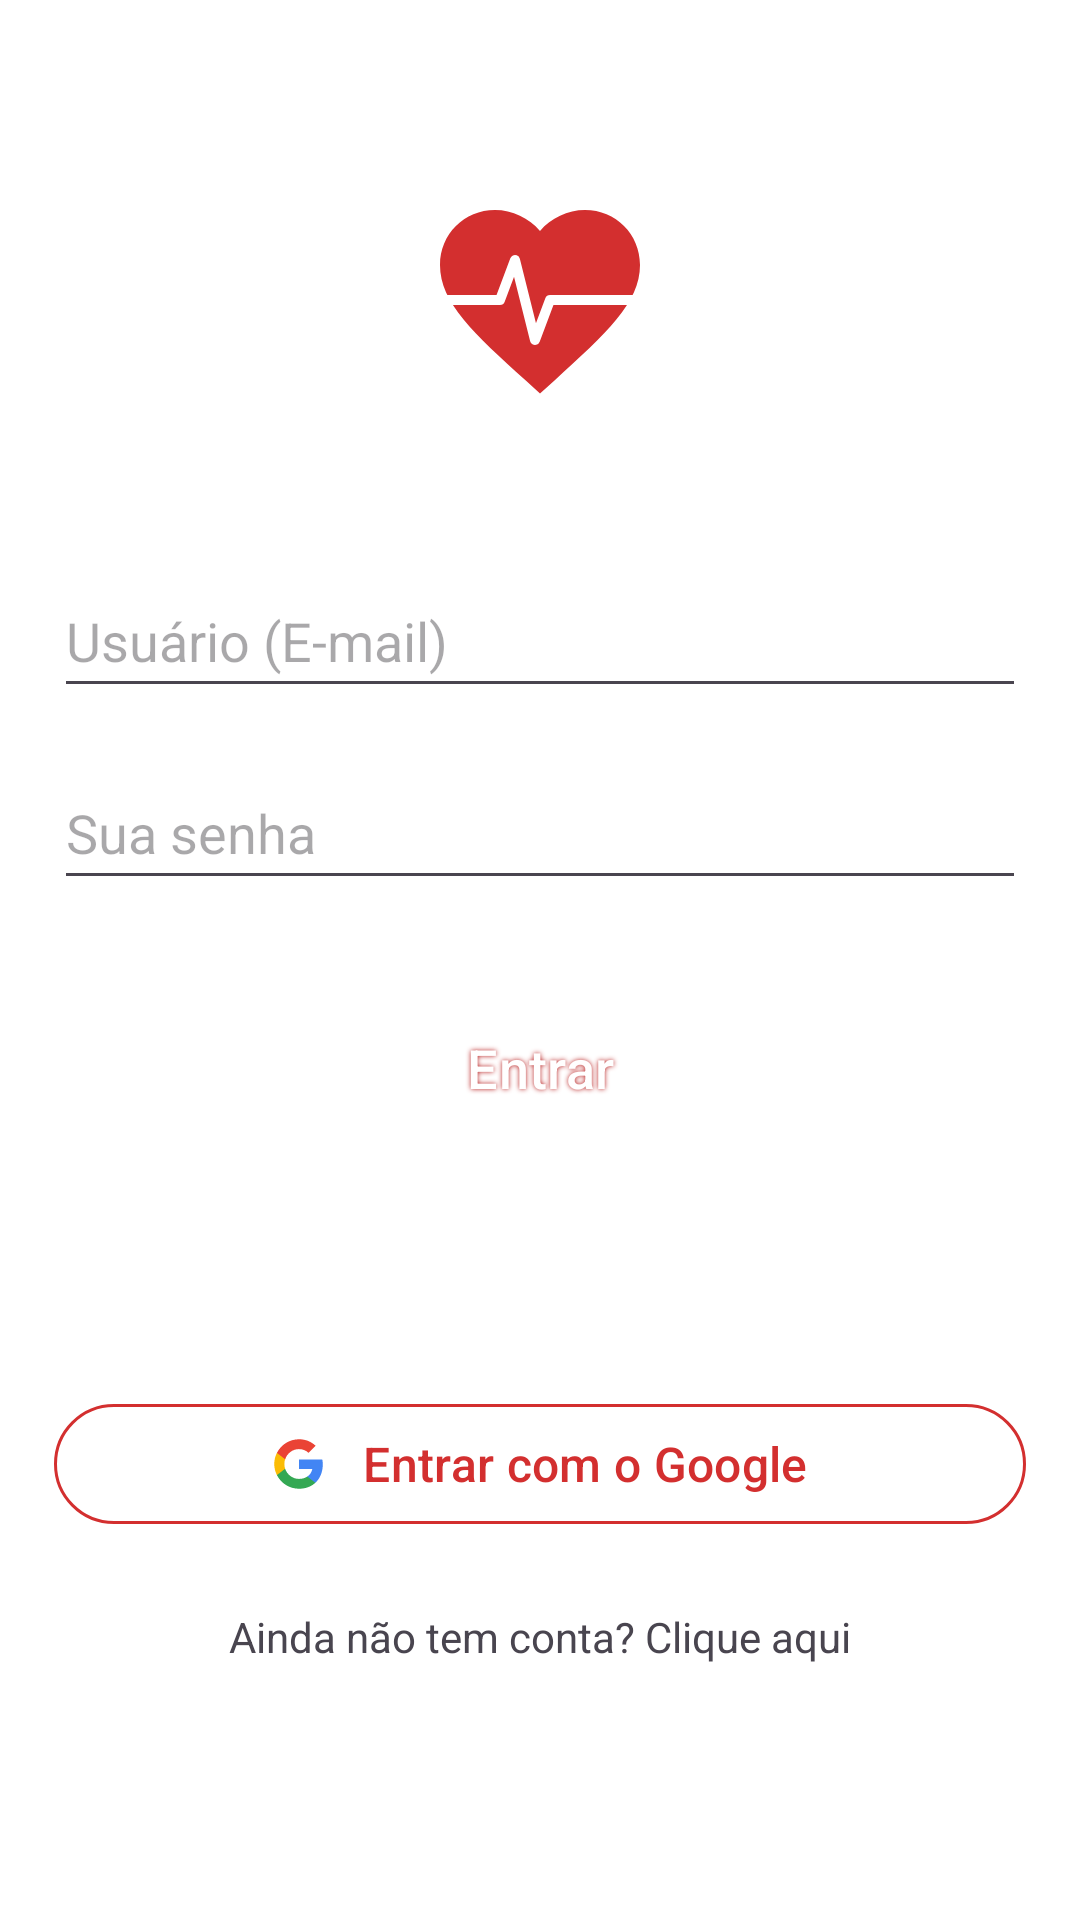

Icon click points for this 1080px×1920px phone screenshot, format (x=x, y=y):
heart pulse: (x=540, y=302)
